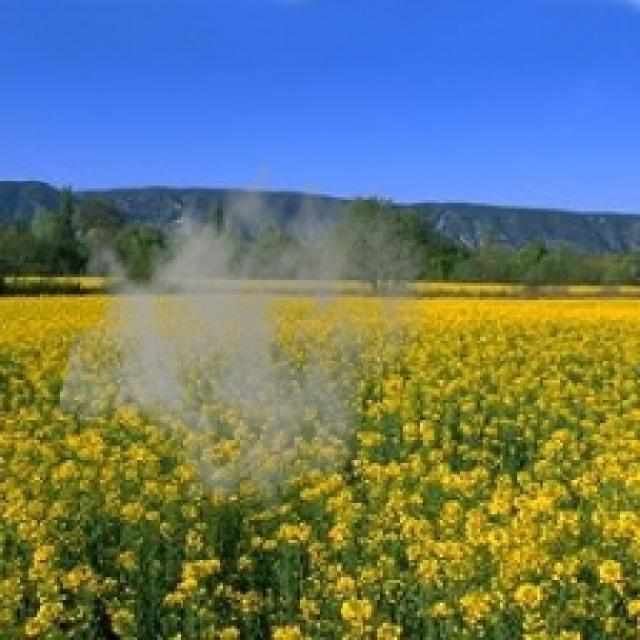Smoke: (54, 140, 434, 523)
